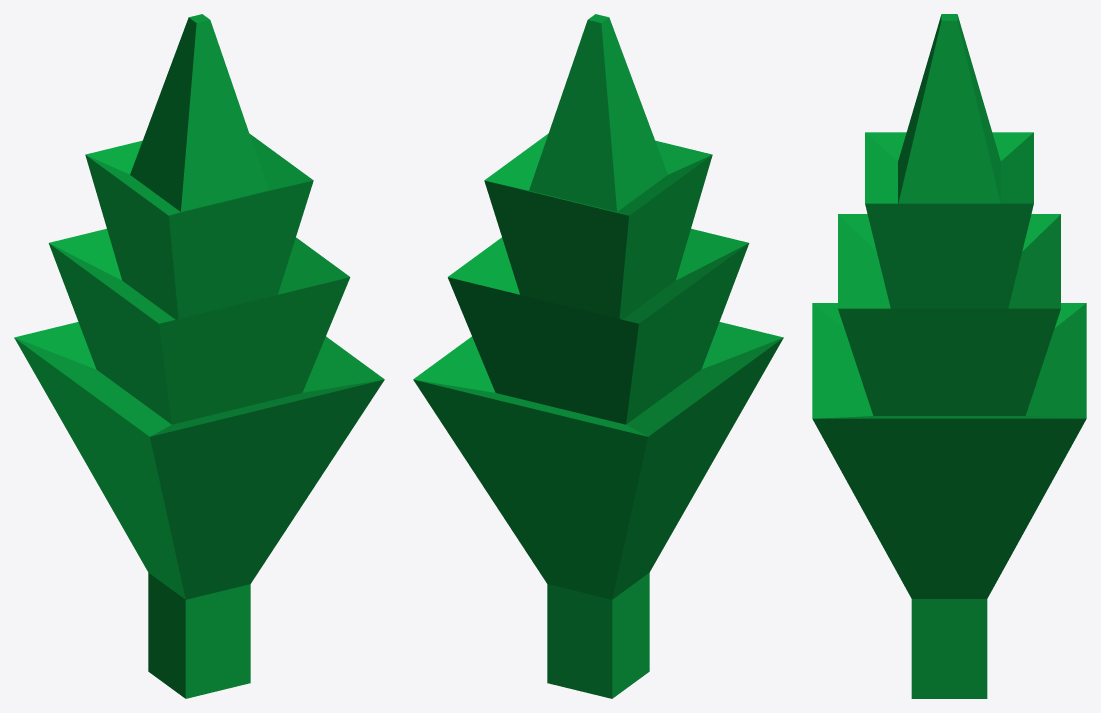
Rendered from Plant.fbx.
3 views of the same model, side by side, from view 1: azimuth 30°, elevation 25°; view 2: azimuth 150°, elevation 25°; view 3: azimuth 270°, elevation 25° (orthographic).
Parts seen in each view (by area): view 1: Cube; view 2: Cube; view 3: Cube.
Boxes of the visible parts, box(x1,y1,x2,y2) form: Cube: box(14, 14, 384, 698); Cube: box(413, 14, 783, 698); Cube: box(812, 14, 1086, 698).
Size of the model in its own units: 192 by 513 by 192.
